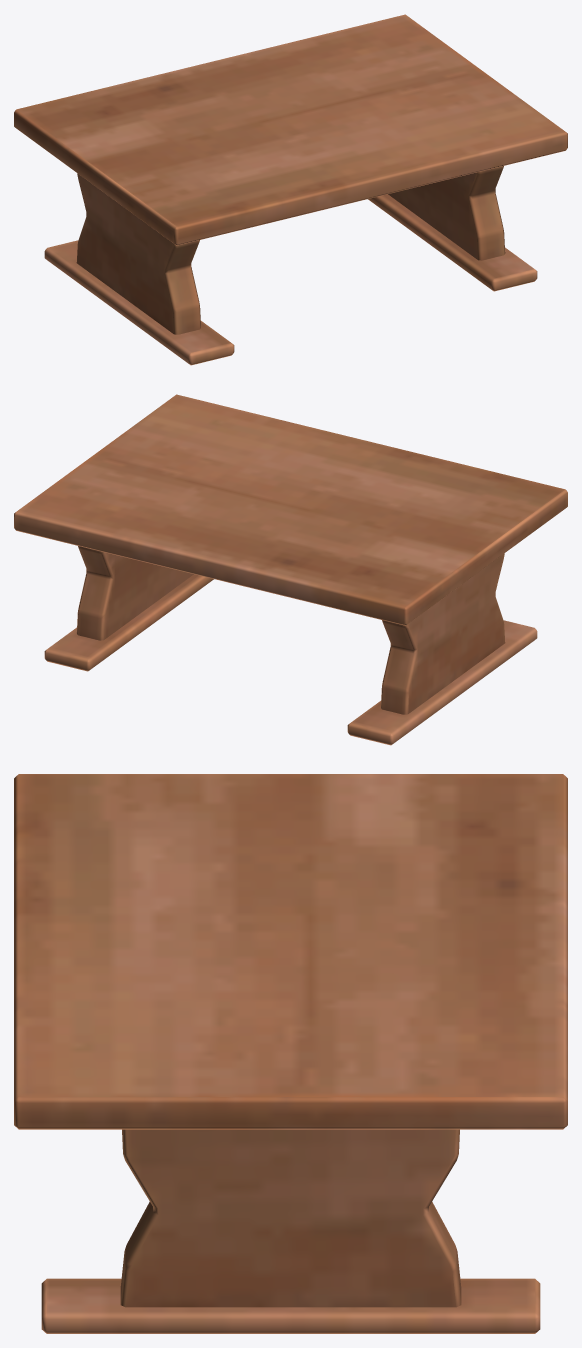
File: DC_prp_ZhuoZi_mod.fbx
3 views of the same model, one above another, from view 1: azimuth 30°, elevation 25°; view 2: azimuth 150°, elevation 25°; view 3: azimuth 270°, elevation 25° (orthographic). The views are drawn at different scales.
Visible parts, largest first — view 1: ZhuoZi; view 2: ZhuoZi; view 3: ZhuoZi.
Part boxes in pixels (left/top/right/bottom): ZhuoZi: left=14, top=14, right=567, bottom=365; ZhuoZi: left=14, top=394, right=567, bottom=745; ZhuoZi: left=14, top=774, right=567, bottom=1333.
Bounding box in the file's own units: 280 × 102 × 200.
